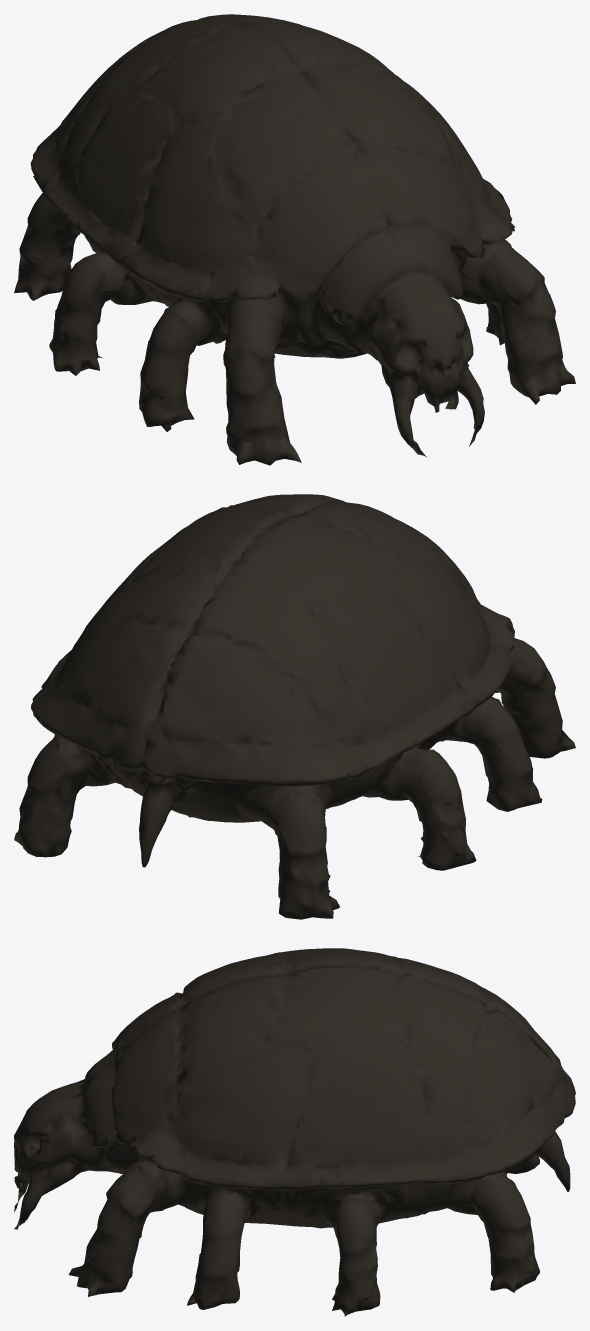
File: shell_beetle.glb
3 renders of one model, top to bottom at view 1: azimuth 30°, elevation 25°; view 2: azimuth 150°, elevation 25°; view 3: azimuth 270°, elevation 25°, orthographic. The views are drawn at different scales.
Parts seen in each view (by area): view 1: reduced; view 2: reduced; view 3: reduced.
Part boxes in pixels (x1=…): reduced: x1=14, y1=14, x2=575, y2=465; reduced: x1=14, y1=494, x2=575, y2=919; reduced: x1=14, y1=948, x2=575, y2=1316.
Size of the model in its own units: 1.49 by 0.9683 by 1.89.
Materials: 1 (1 with a texture image).
